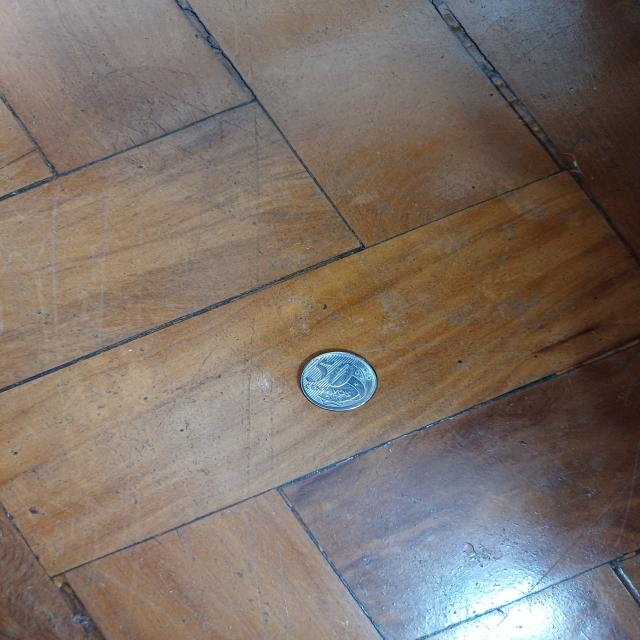50 cents: (298, 348, 377, 412)
